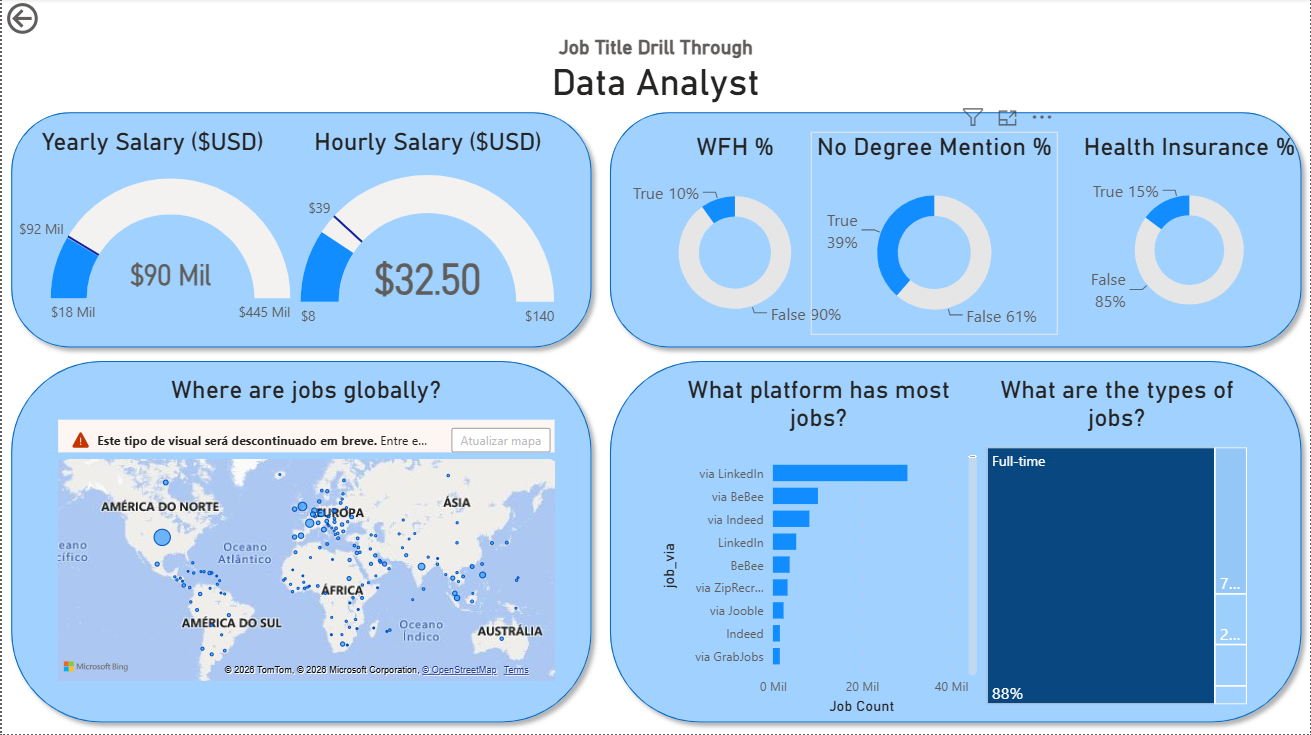

What the dashboard file says about the page in this screenshot:
{"tool":"powerbi","page":{"name":"Job Title Drill Through","canvas":[1280,720],"ordinal":1},"visuals":[{"type":"group","id":"g1","title":"Background","box":[0,102.7,1280.3,615.4],"z":0},{"type":"shape","box":[0,103,585.7,248.2],"z":0,"group":"g1"},{"type":"cardVisual","fields":{"Data":["Min(job_postings_flat.job_title_short)1"]},"box":[440.4,0,399.2,140.3],"z":1000},{"type":"shape","box":[585.7,102.7,694.6,248.2],"z":1000,"group":"g1"},{"type":"actionButton","box":[0,0,100,40],"z":2000},{"type":"shape","box":[0,346.4,585.7,371.7],"z":2000,"group":"g1"},{"type":"gauge","title":"Yearly Salary ($USD)","fields":{"MaxValue":["Max(job_postings_flat.salary_year_avg)2"],"MinValue":["Min(job_postings_flat.salary_year_avg)1"],"TargetValue":["Avg(job_postings_flat.salary_year_avg)3"],"Y":["Median(job_postings_flat.salary_year_avg)"]},"box":[6.1,126,281.3,207.9],"z":3000},{"type":"shape","box":[585.7,346.4,694.6,371.7],"z":3000,"group":"g1"},{"type":"gauge","title":"Hourly Salary ($USD)","fields":{"MaxValue":["Max(job_postings_flat.salary_hour_avg)1"],"MinValue":["Min(job_postings_flat.salary_hour_avg)"],"TargetValue":["Avg(job_postings_flat.salary_hour_avg)"],"Y":["Median(job_postings_flat.salary_hour_avg)"]},"box":[287.4,126,258,207.9],"z":4000},{"type":"donutChart","title":"WFH %","fields":{"Category":["job_postings_flat.job_work_from_home"],"Y":["CountNonNull(job_postings_flat.job_work_from_home)"]},"box":[604.1,130.8,226.2,198.1],"z":5000},{"type":"donutChart","title":"No Degree Mention %","fields":{"Category":["job_postings_flat.job_no_degree_mention"],"Series":["job_postings_flat.job_no_degree_mention"],"Y":["CountNonNull(job_postings_flat.job_no_degree_mention)"]},"box":[791.2,130.8,242.1,198.1],"z":6000},{"type":"donutChart","title":"Health Insurance %","fields":{"Category":["job_postings_flat.job_health_insurance"],"Y":["CountNonNull(job_postings_flat.job_health_insurance)"]},"box":[1051.6,130.8,220.1,193.2],"z":7000},{"type":"map","title":"Where are jobs globally?","fields":{"Category":["job_postings_flat.job_country"],"Size":["CountNonNull(job_postings_flat.job_title_short)"]},"box":[50.1,369.3,495.2,304.5],"z":8000},{"type":"barChart","title":"What platform has most jobs?","fields":{"Category":["job_postings_flat.job_via"],"Y":["CountNonNull(job_postings_flat.job_via)"]},"box":[639.5,369.3,319.2,336.3],"z":9000},{"type":"treemap","title":"What are the types of jobs?","fields":{"Group":["job_postings_flat.job_schedule_type"],"Values":["CountNonNull(job_postings_flat.job_schedule_type)"]},"box":[958.7,369.3,264.1,326.5],"z":10000}]}

Visuals, with their boxes in screenshot pixels (x1, y1, x2, y2), scaled from the page's 1280x720 canvas onto the 1311x735 screenshot:
"Background" group: 0,105,1310,733
shape: 0,105,600,359
cardVisual - Min(job_postings_flat.job_title_short)1: 451,0,860,143
shape: 600,105,1310,358
actionButton: 0,0,102,41
shape: 0,354,600,733
"Yearly Salary ($USD)" gauge: 6,129,294,341
shape: 600,354,1310,733
"Hourly Salary ($USD)" gauge: 294,129,559,341
"WFH %" donutChart: 619,134,850,336
"No Degree Mention %" donutChart: 810,134,1058,336
"Health Insurance %" donutChart: 1077,134,1302,331
"Where are jobs globally?" map: 51,377,559,688
"What platform has most jobs?" barChart: 655,377,982,720
"What are the types of jobs?" treemap: 982,377,1252,710
